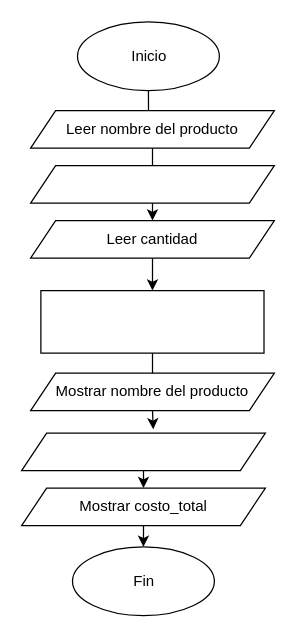
The diagram is 298 pixels wide and 638 high, and some of its shapes have lost their labels. The centre of each missing label's shape, as x and y in pixels:
costo_total = precio * cantidad: [152,321]
Leer precio: [151,183]
Mostrar cantidad: [142,451]
